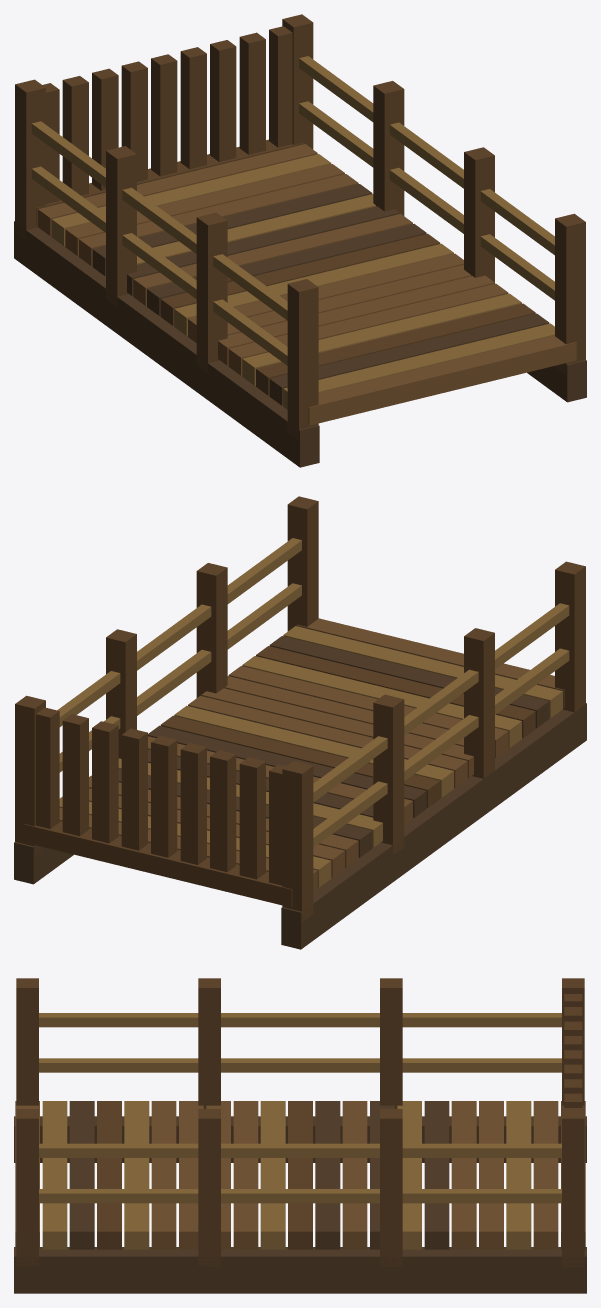
Rendered from greenhaven-south-bridge.glb.
3 renders of one model, top to bottom at view 1: azimuth 30°, elevation 25°; view 2: azimuth 150°, elevation 25°; view 3: azimuth 270°, elevation 25°, orthographic.
Visible parts, largest first — view 1: A01_FutureBridge_South; view 2: A01_FutureBridge_South; view 3: A01_FutureBridge_South.
Part boxes in pixels (x1=…): A01_FutureBridge_South: x1=14, y1=14, x2=586, y2=467; A01_FutureBridge_South: x1=14, y1=496, x2=586, y2=949; A01_FutureBridge_South: x1=14, y1=978, x2=586, y2=1293.
Bounding box in the file's own units: 3.65 × 2.12 × 6.3.
